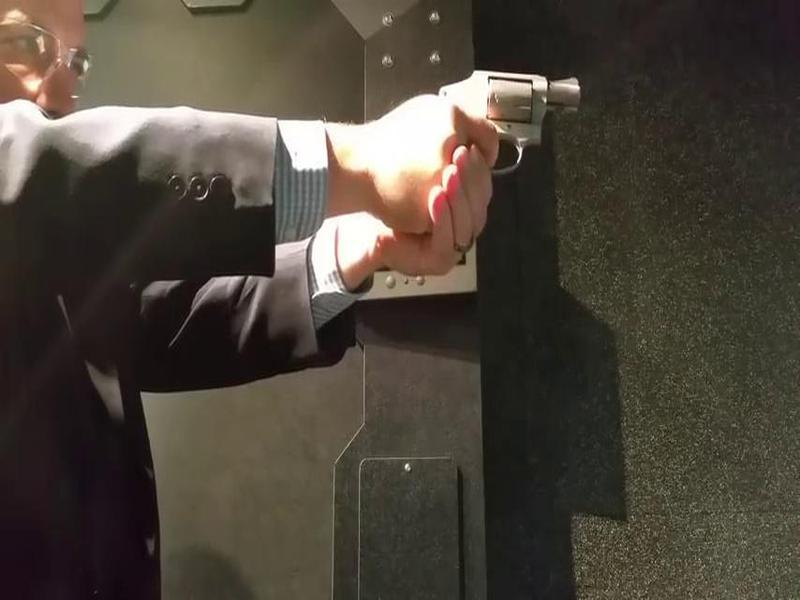Revolver: (404, 33, 574, 200)
